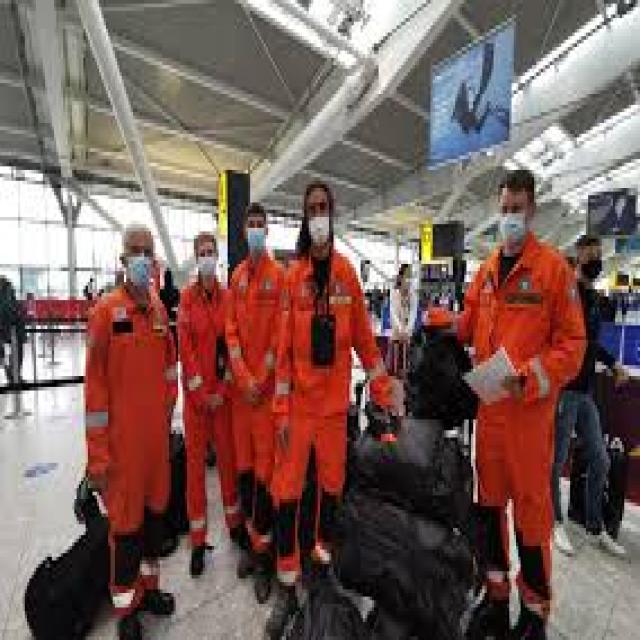vest: (462, 236, 584, 610), (278, 253, 388, 584), (84, 290, 170, 608), (230, 251, 286, 549), (179, 282, 236, 542)
